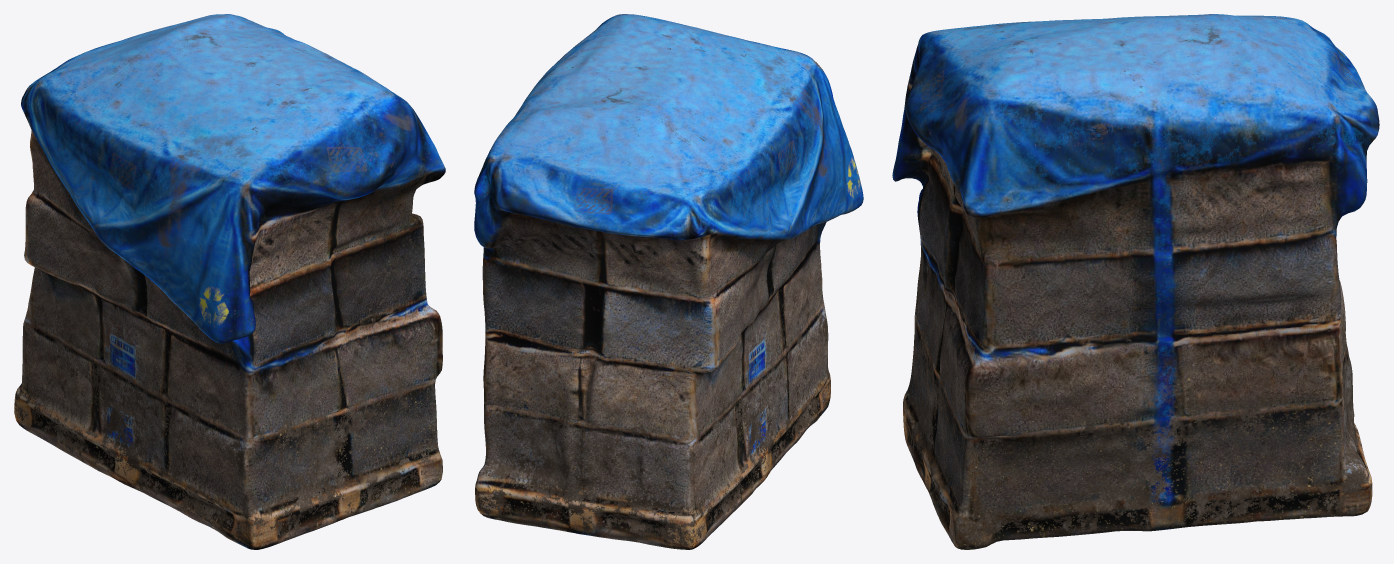
File: deteriorated_boxes_on_a_pallet.glb
3 renders of one model, left to right at view 1: azimuth 30°, elevation 25°; view 2: azimuth 150°, elevation 25°; view 3: azimuth 270°, elevation 25°, orthographic. The views are drawn at different scales.
Visible parts, largest first — view 1: model; view 2: model; view 3: model.
Part boxes in pixels (<box>): model: <box>14,14,445,549</box>; model: <box>474,14,863,549</box>; model: <box>892,14,1379,549</box>.
Bounding box in the file's own units: 0.9873 × 1.34 × 1.32.
Materials: 1 (1 with a texture image).
